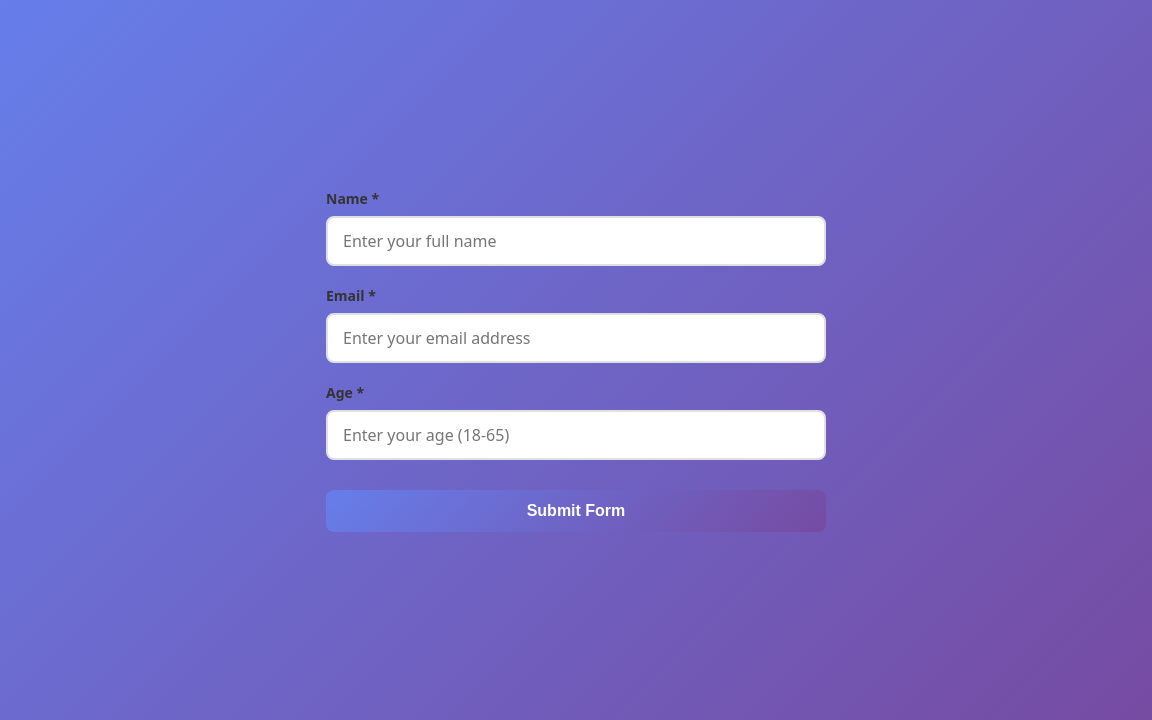
it: FormComponent › Form Validation - Age Field › displays error when age is less than 18
# Fill in required fields
Type "John Doe" into the field labelled "Name *" at (576, 240), box [326, 216, 826, 266]
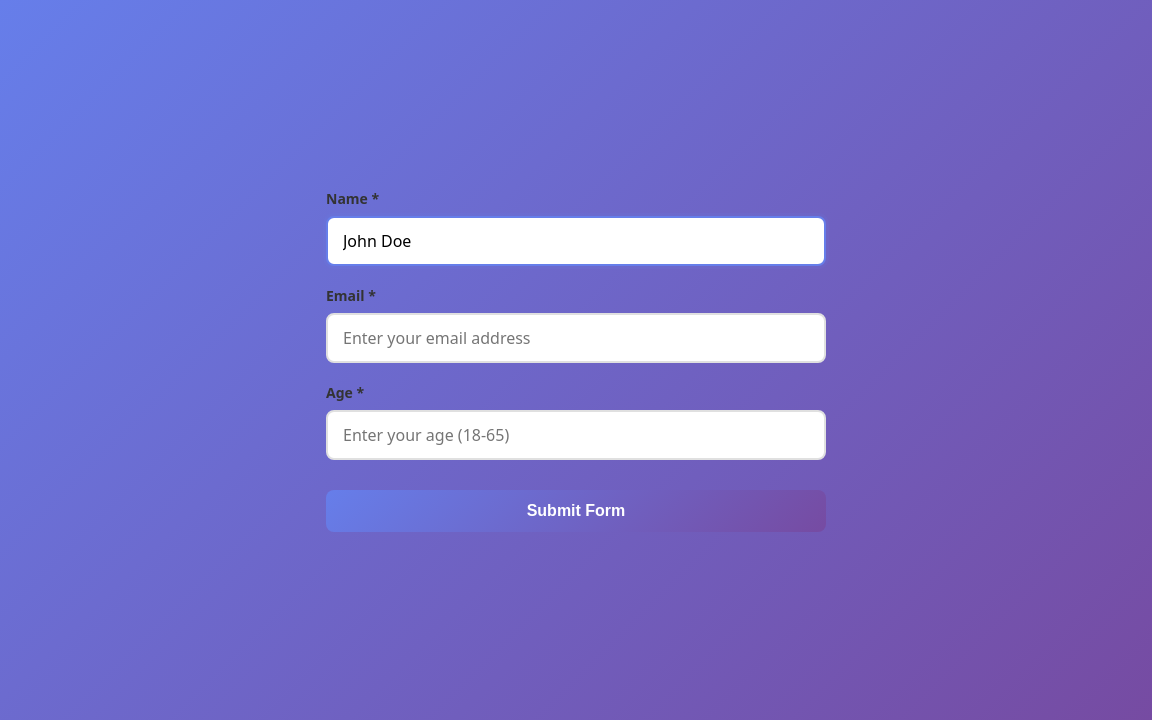
Type "john@example.com" into the field labelled "Email *" at (576, 338), box [326, 312, 826, 362]
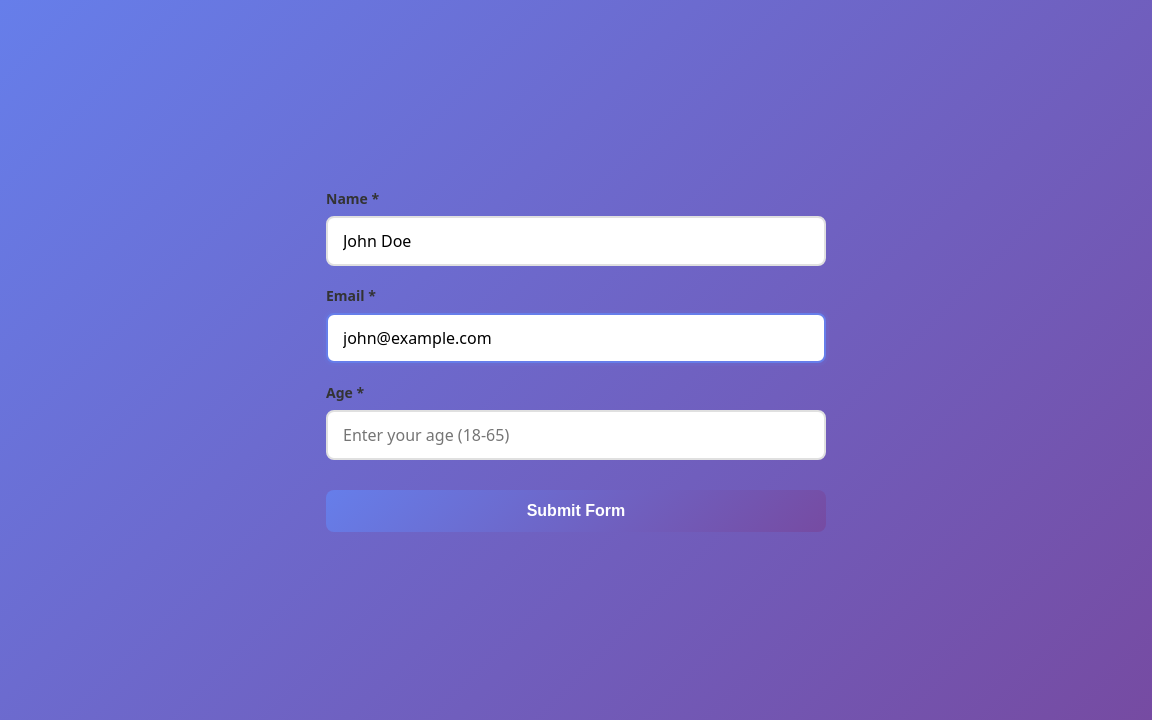
# Enter age less than 18
Type "15" into the number field labelled "Age *" at (576, 434), box [326, 410, 826, 460]
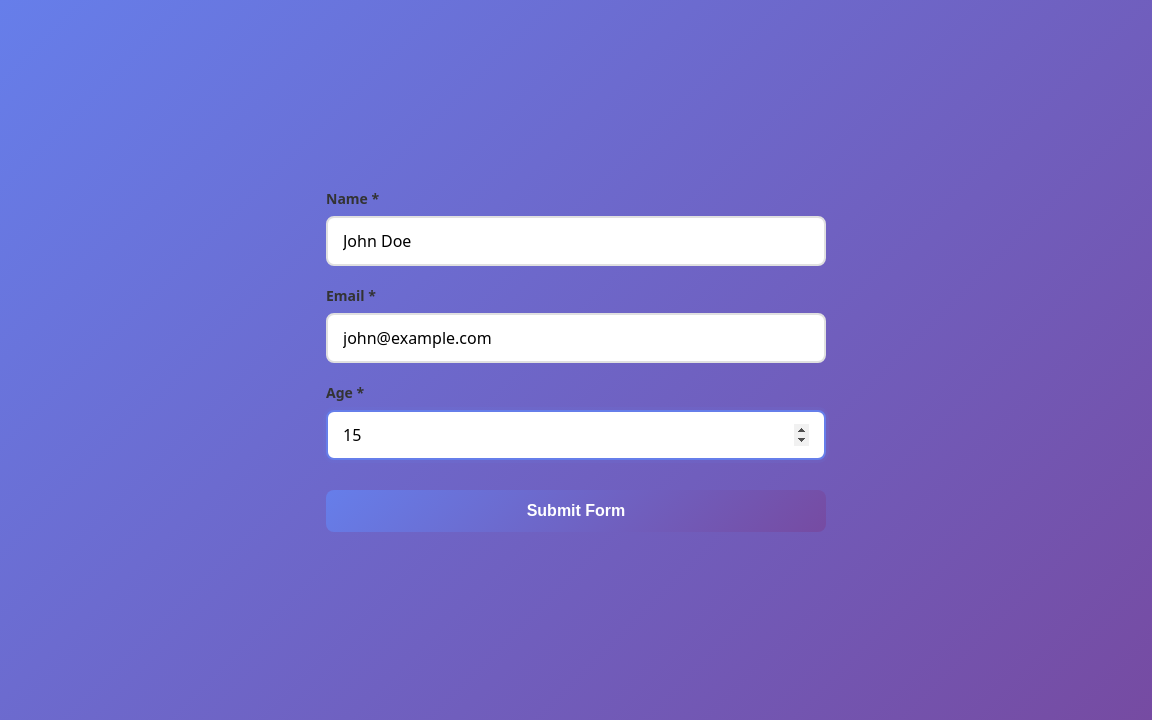
# Click submit to trigger validation
Click the button "Submit Form" at (576, 510), box [326, 490, 826, 532]
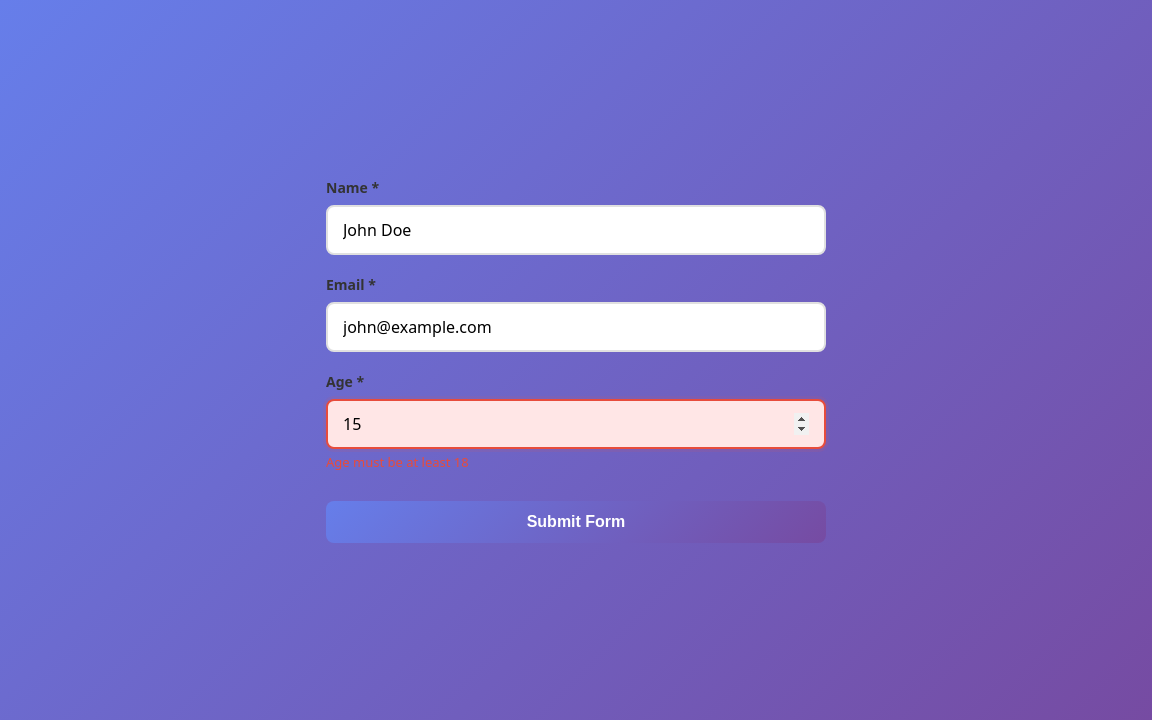
Check: the text "Age must be at least 18" is shown, box [326, 452, 469, 470]
